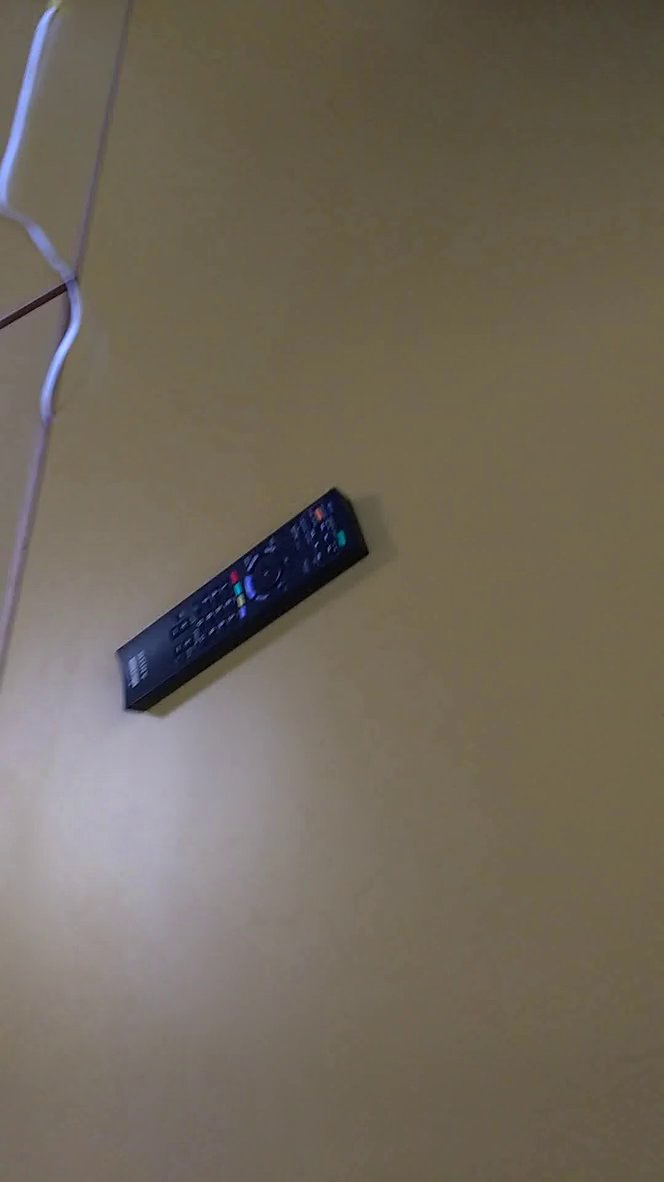remote: (103, 481, 376, 728)
